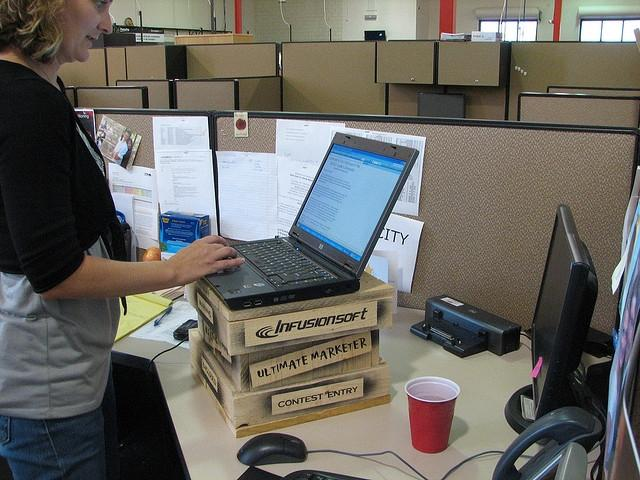apple: (142, 246, 161, 262)
